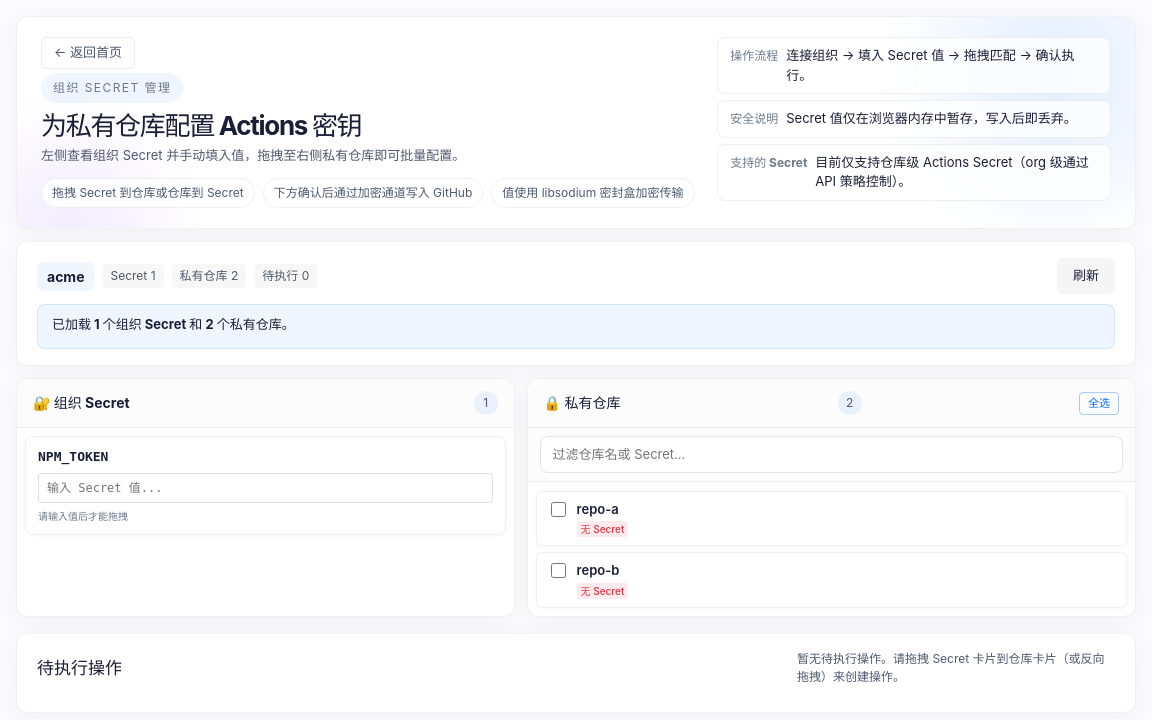
Test: SecretManager › selects only filtered repos when using select-all
The image size is (1152, 720).
Expected: the link "repo-a" is shown, [577,501,619,517]
Type "repo-a" into the field named "过滤私有仓库" at x=831, y=455, box [540,436,1123,474]
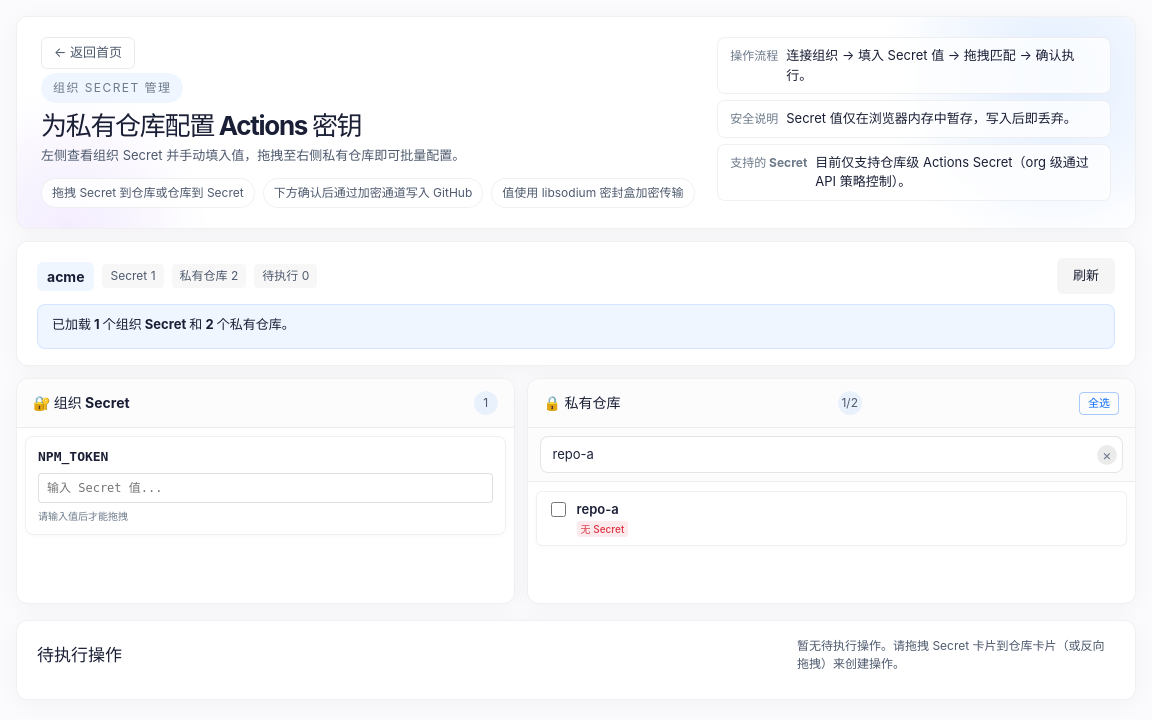
Click the button "全选" at x=1099, y=403, box [1079,392,1119,415]
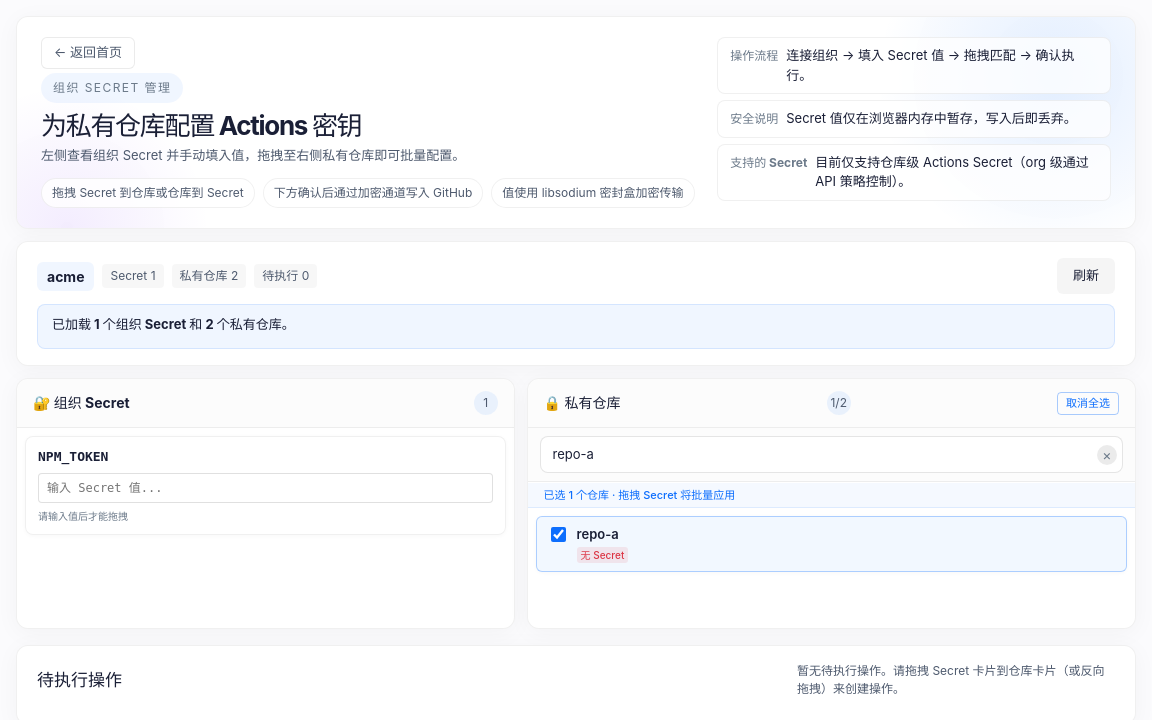
Now the text "已选 1 个仓库 · 拖拽 Secret 将批量应用" is shown, box [528,483,1135,508]
Now the button "取消全选" is shown, box [1057,392,1119,415]
